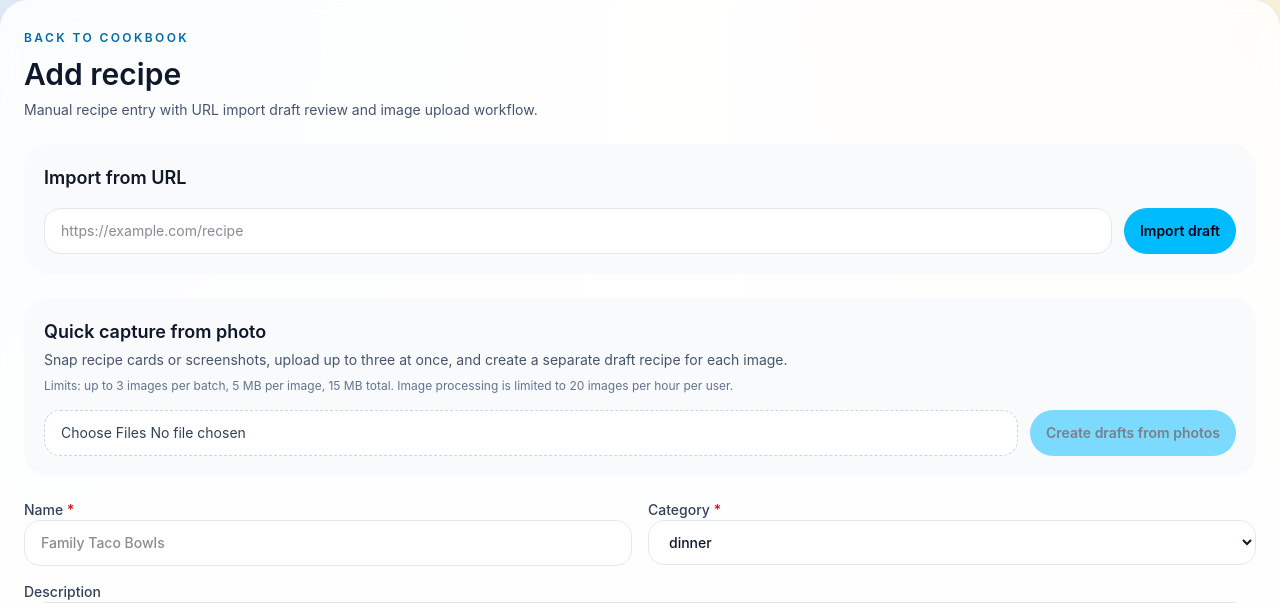
Scenario: RecipeEditorPage › imports a draft from URL into the form
In the field named "Recipe import URL": (578, 231) 44,208 -> 1112,254, type "https://example.com/pasta"
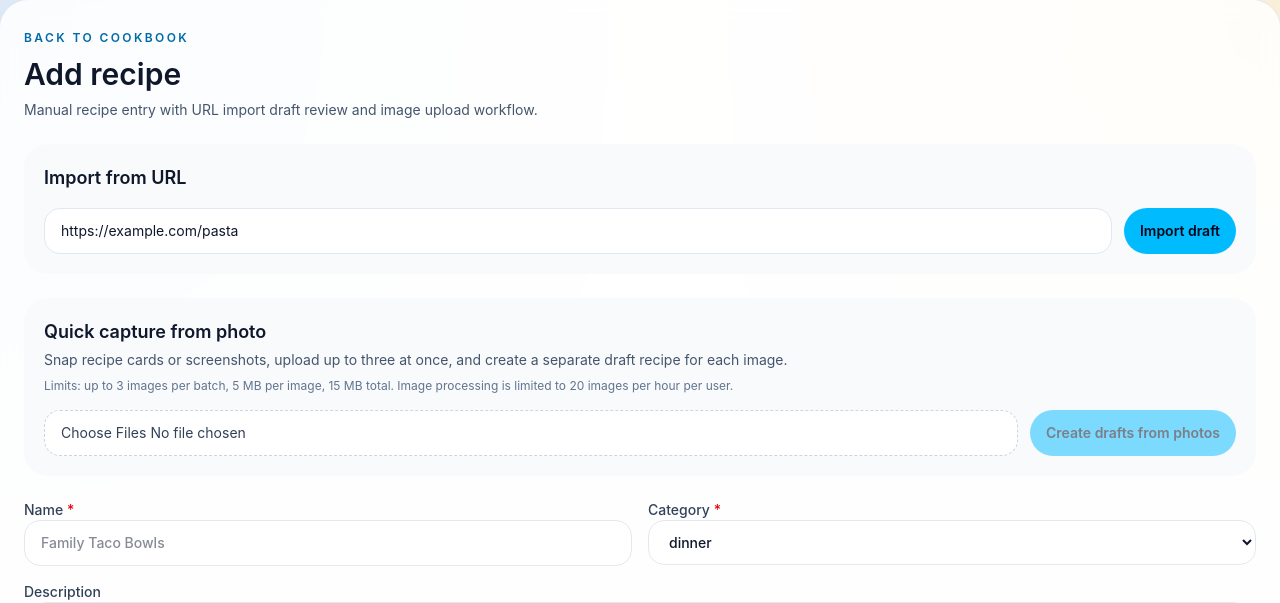
Click the button "Import draft": click(1180, 231) 1124,208 -> 1236,254
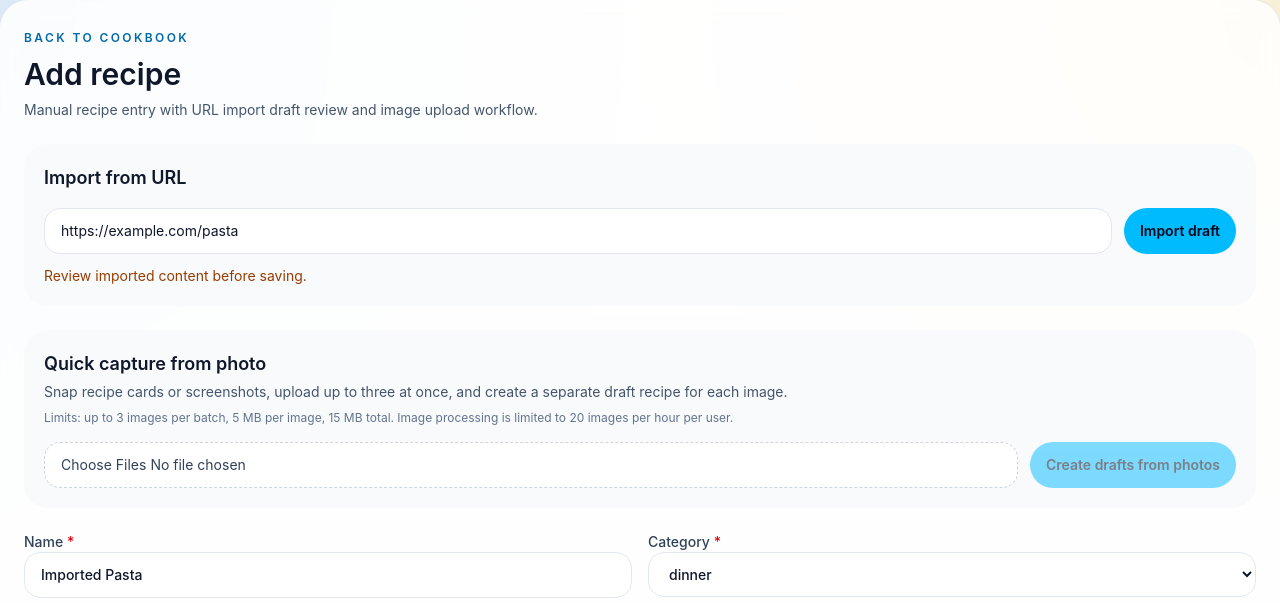
Expected: the field named "Recipe name" holds "Imported Pasta", 24,552 -> 632,598
Expected: the list item "Review imported content before saving." is shown, 44,267 -> 307,284
